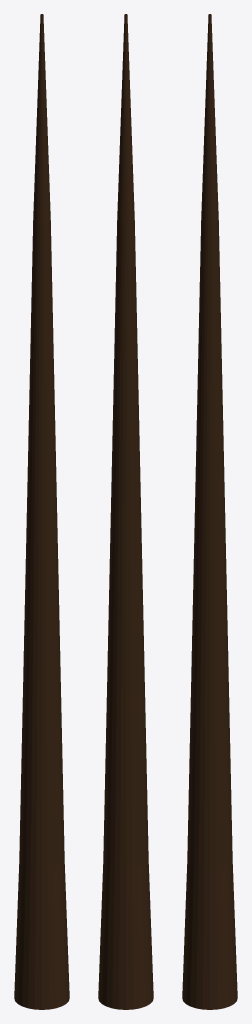
File: AlpinePineTrunk.obj
3 views of the same model, side by side, from view 1: azimuth 30°, elevation 25°; view 2: azimuth 150°, elevation 25°; view 3: azimuth 330°, elevation 25° (orthographic).
Parts seen in each view (by area): view 1: AlpinePineTrunk; view 2: AlpinePineTrunk; view 3: AlpinePineTrunk.
Part boxes in pixels (x1,y1,x2,y2): AlpinePineTrunk: [14, 14, 69, 1009]; AlpinePineTrunk: [98, 14, 153, 1009]; AlpinePineTrunk: [182, 14, 237, 1009].
Bounding box in the file's own units: 44 × 860 × 44.
